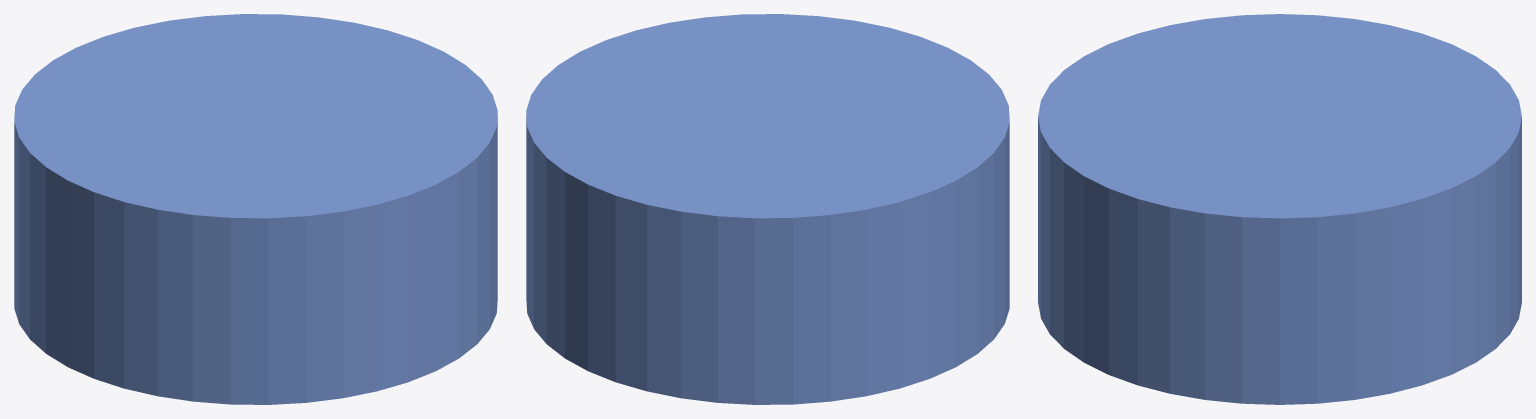
File: rec_bottle_cap_0029.glb
The picture shows the model from 3 angles, left to right: view 1: azimuth 30°, elevation 25°; view 2: azimuth 150°, elevation 25°; view 3: azimuth 270°, elevation 25°; orthographic projection.
Visible parts, largest first — view 1: z-up-to-y-up; view 2: z-up-to-y-up; view 3: z-up-to-y-up.
Boxes of the visible parts, x1,y1,x2,y2 form: z-up-to-y-up: (14, 14, 497, 404); z-up-to-y-up: (526, 14, 1009, 404); z-up-to-y-up: (1038, 14, 1521, 404).
Size of the model in its own units: 0.0272 by 0.0116 by 0.0272.
